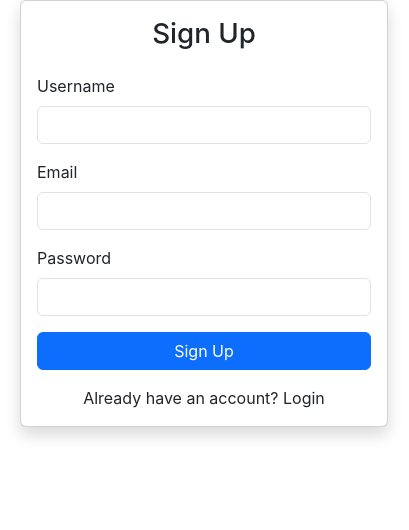
Scenario: Signup.vue › displays error message on signup failure
This screenshot has width=409, height=530.
Type "testuser" into the field with test id "username-input" at (204, 125), box top-left (37, 106), bottom-right (371, 144)
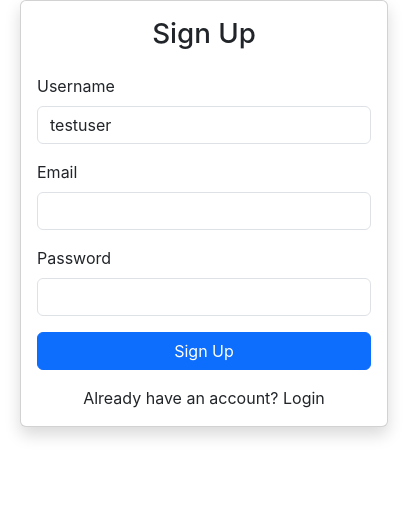
Type "test@example.com" into the field with test id "email-input" at (204, 211), box top-left (37, 192), bottom-right (371, 230)
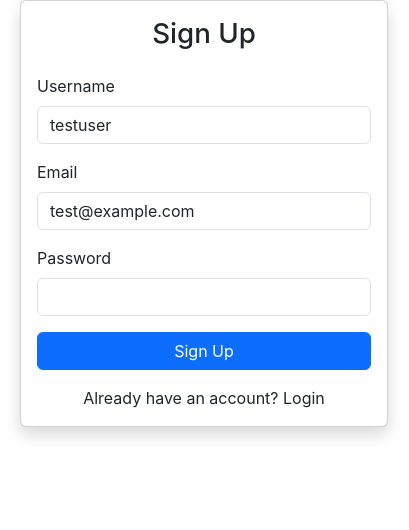
Type "password123" into the password field with test id "password-input" at (204, 297), box top-left (37, 278), bottom-right (371, 316)
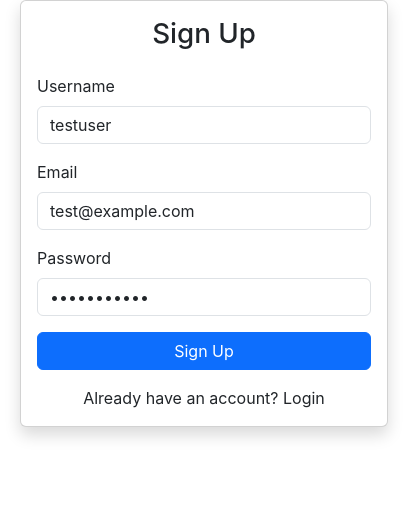
Submit the form, box top-left (37, 74), bottom-right (371, 370)
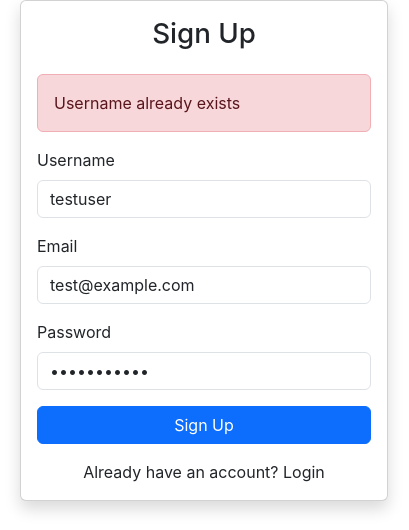
Expected: the text "Username already exists" is shown, top-left (37, 74), bottom-right (371, 132)
